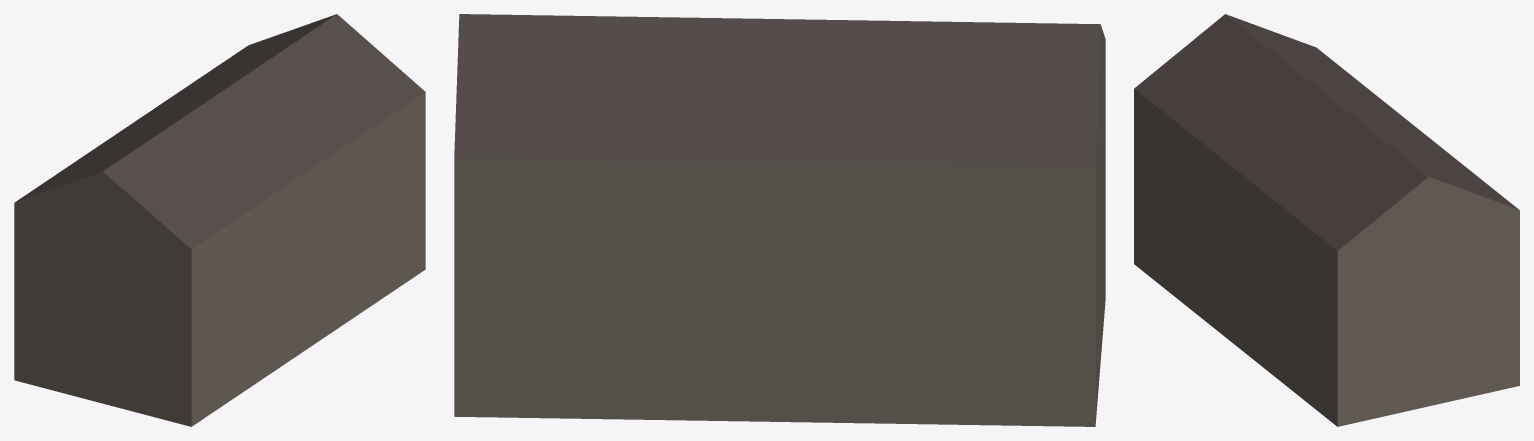
3 views of the same model, side by side, from view 1: azimuth 30°, elevation 25°; view 2: azimuth 150°, elevation 25°; view 3: azimuth 270°, elevation 25° (orthographic). The views are drawn at different scales.
Parts seen in each view (by area): view 1: HP-w408450680; view 2: HP-w408450680; view 3: HP-w408450680.
Boxes of the visible parts, bbox=[...] form: HP-w408450680: bbox=[14, 14, 425, 426]; HP-w408450680: bbox=[454, 14, 1105, 426]; HP-w408450680: bbox=[1134, 14, 1519, 426].
Bounding box in the file's own units: 14.93 × 7.85 × 11.94.
